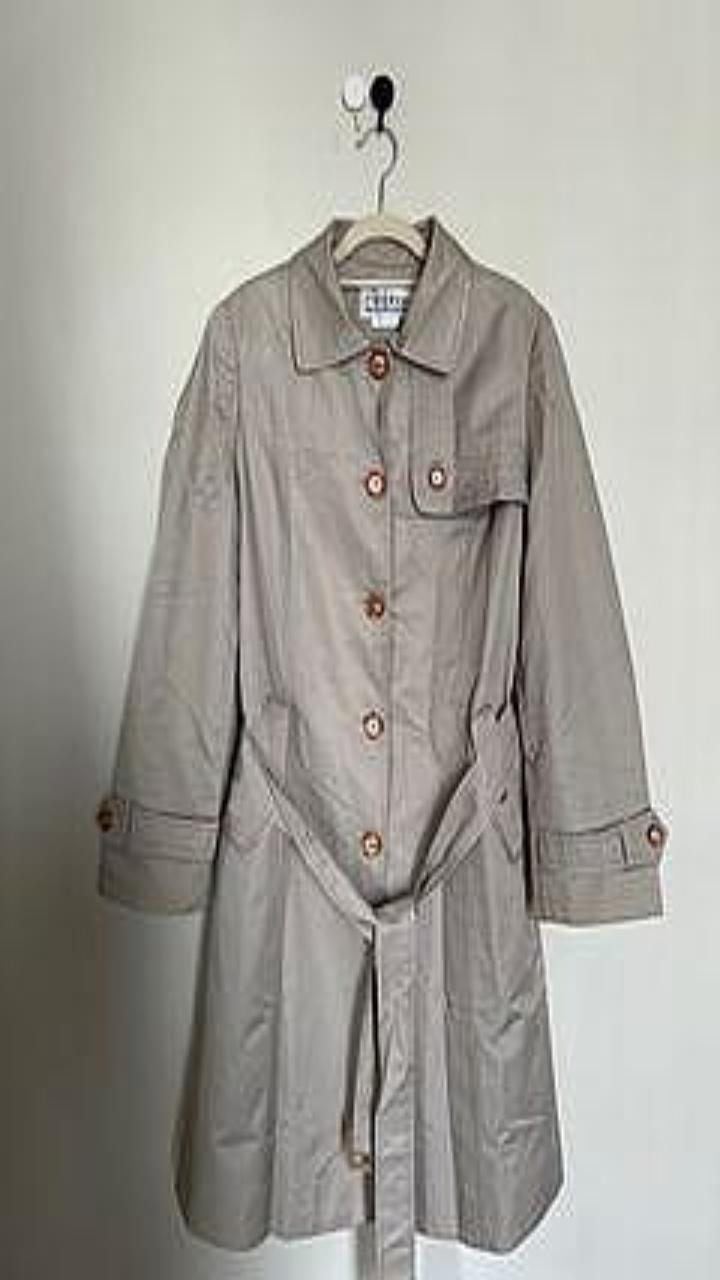Coat: (96, 215, 667, 1279)
